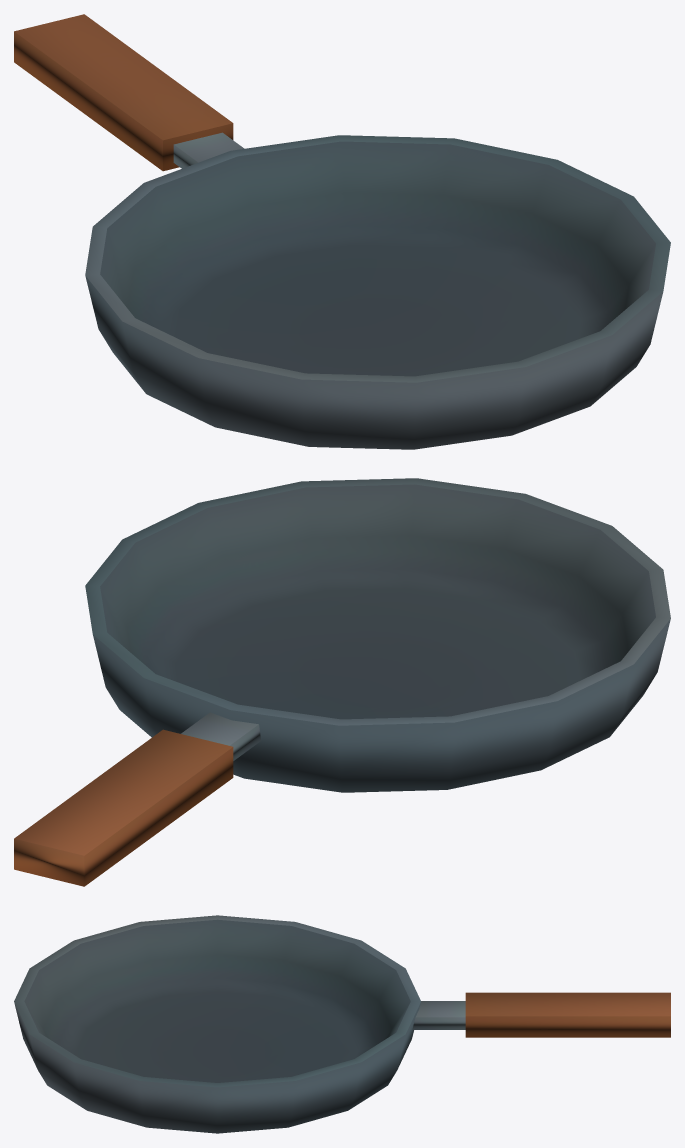
The model's file is fryingPan.fbx.
3 renders of one model, top to bottom at view 1: azimuth 30°, elevation 25°; view 2: azimuth 150°, elevation 25°; view 3: azimuth 270°, elevation 25°, orthographic. The views are drawn at different scales.
Parts seen in each view (by area): view 1: fryingPan; view 2: fryingPan; view 3: fryingPan.
Boxes of the visible parts, x1,y1,x2,y2 form: fryingPan: (14, 14, 670, 449); fryingPan: (14, 478, 670, 886); fryingPan: (14, 915, 670, 1133).
Size of the model in its own units: 23.87 by 3.87 by 38.51.
